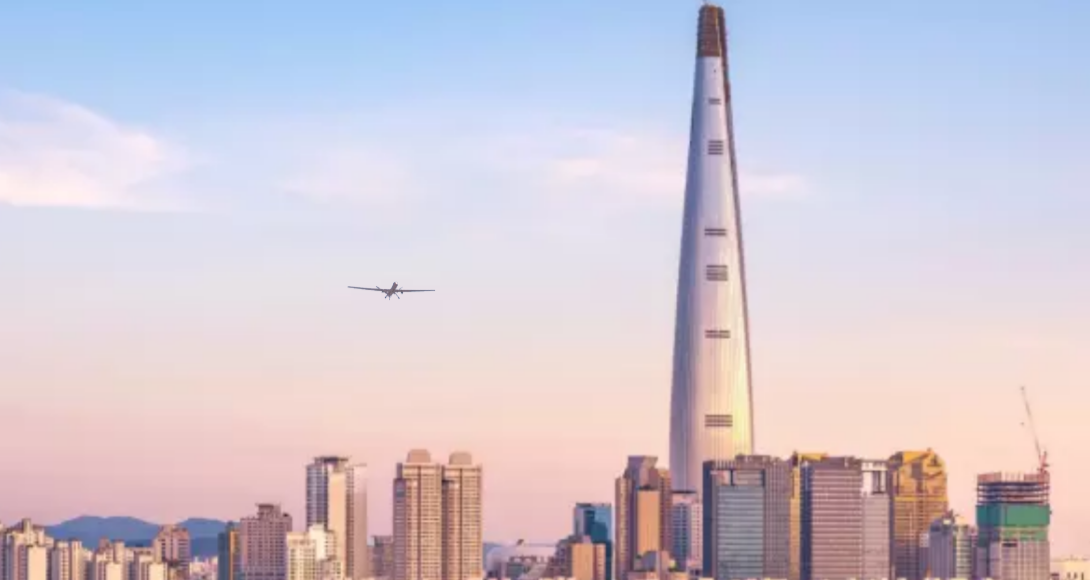military drone: (347, 281, 435, 300)
